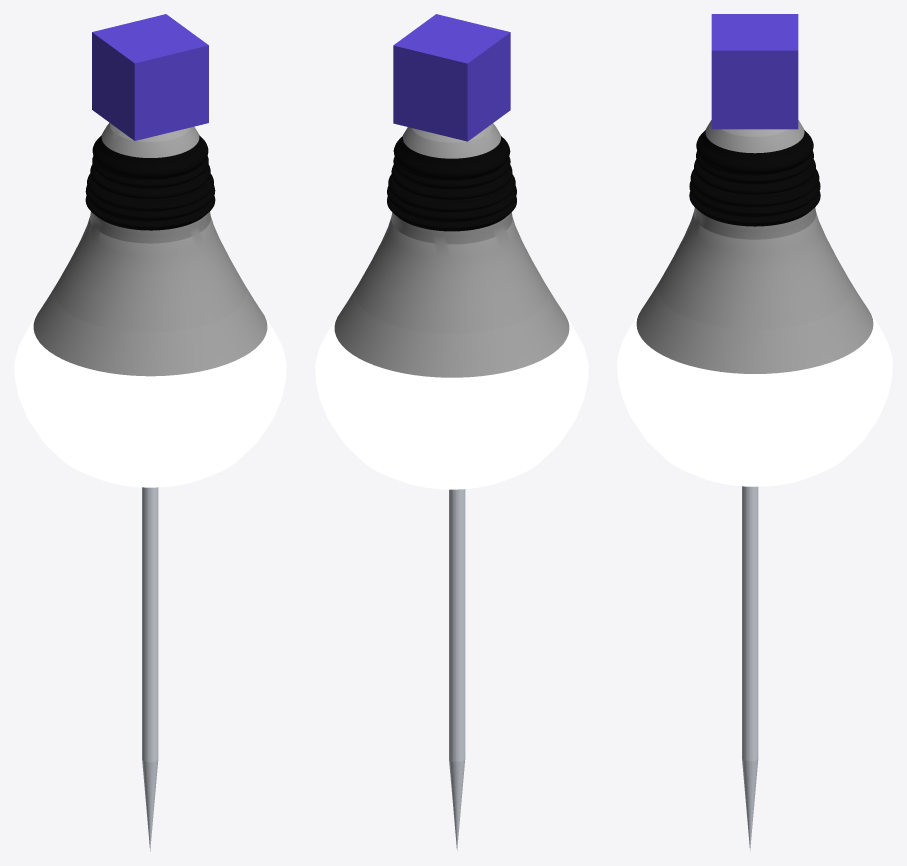
Rendered from lightBulb2.gltf.
3 views of the same model, side by side, from view 1: azimuth 30°, elevation 25°; view 2: azimuth 150°, elevation 25°; view 3: azimuth 270°, elevation 25° (orthographic).
Parts seen in each view (by area): view 1: arrow, ViewFrustum; view 2: arrow, ViewFrustum; view 3: arrow, ViewFrustum.
Part boxes in pixels (x1,y1,x2,y2): arrow: (14,123,286,851); ViewFrustum: (92,14,208,140); arrow: (315,123,588,850); ViewFrustum: (393,14,510,141); arrow: (617,120,892,851); ViewFrustum: (711,14,798,129).
Bounding box in the file's own units: 6.66 × 21.87 × 6.66.
